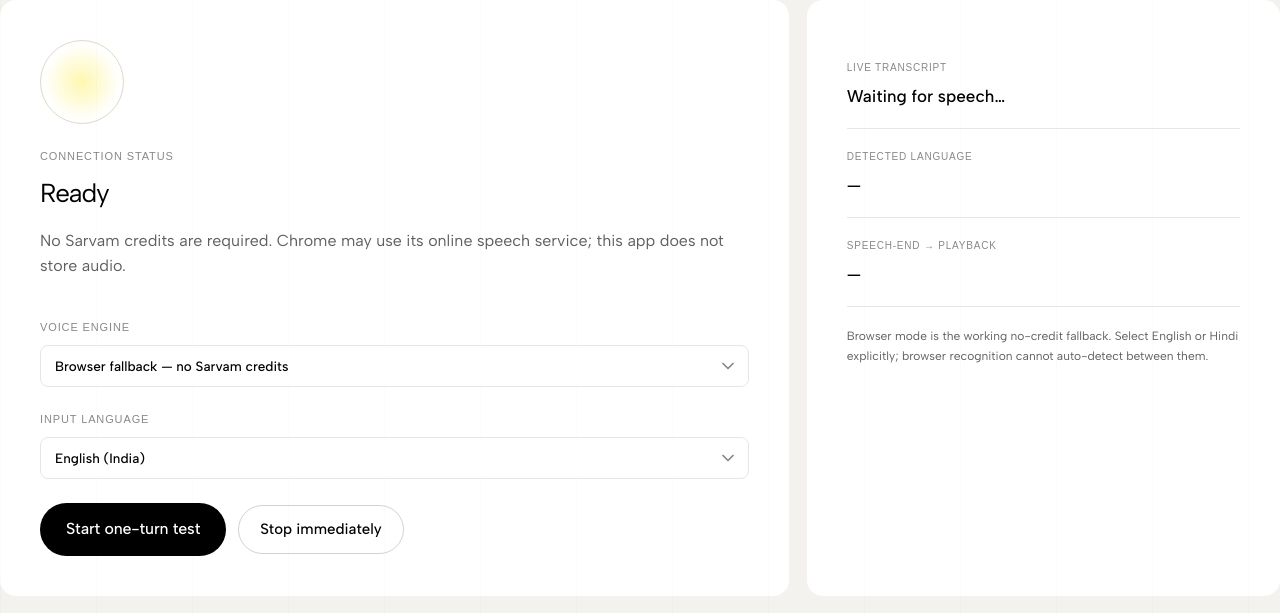
VoiceLab browser fallback › completes a one-turn browser speech round trip without Sarvam
expect the text "Browser fallback — no Sarvam credits" is shown: met, box [55, 356, 288, 376]
Click the button "Start one-turn test" at (133, 529), box [40, 503, 226, 556]
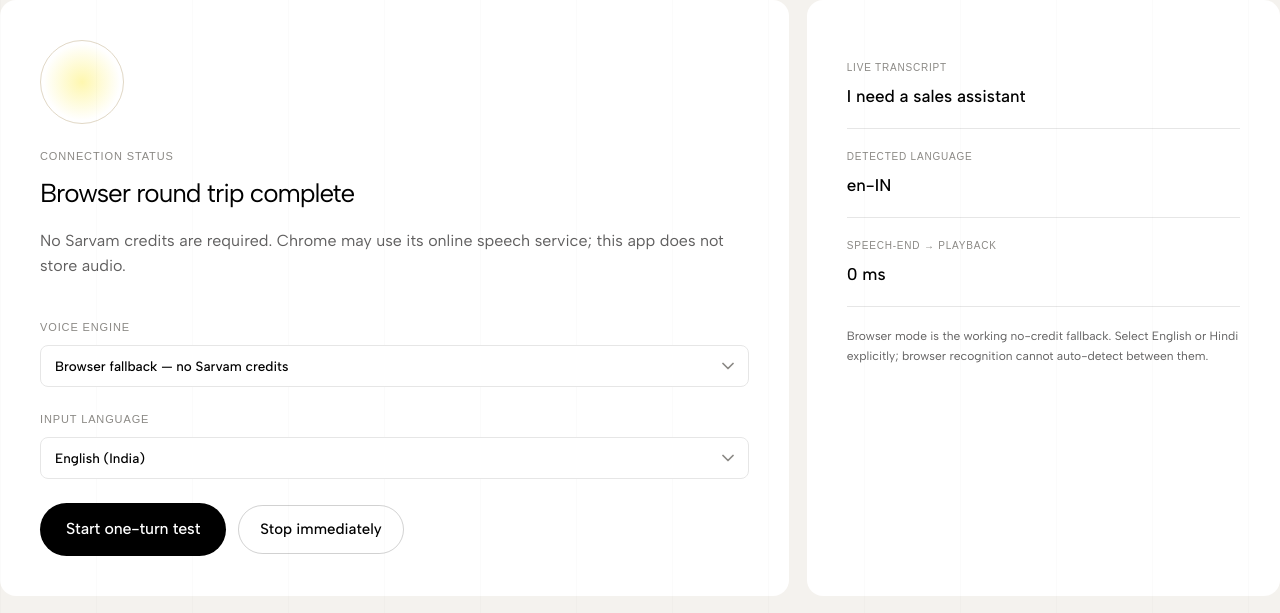
expect the text "I need a sales assistant" is shown: met, box [847, 86, 1026, 106]
expect the heading "Browser round trip complete" is shown: met, box [40, 177, 354, 209]
